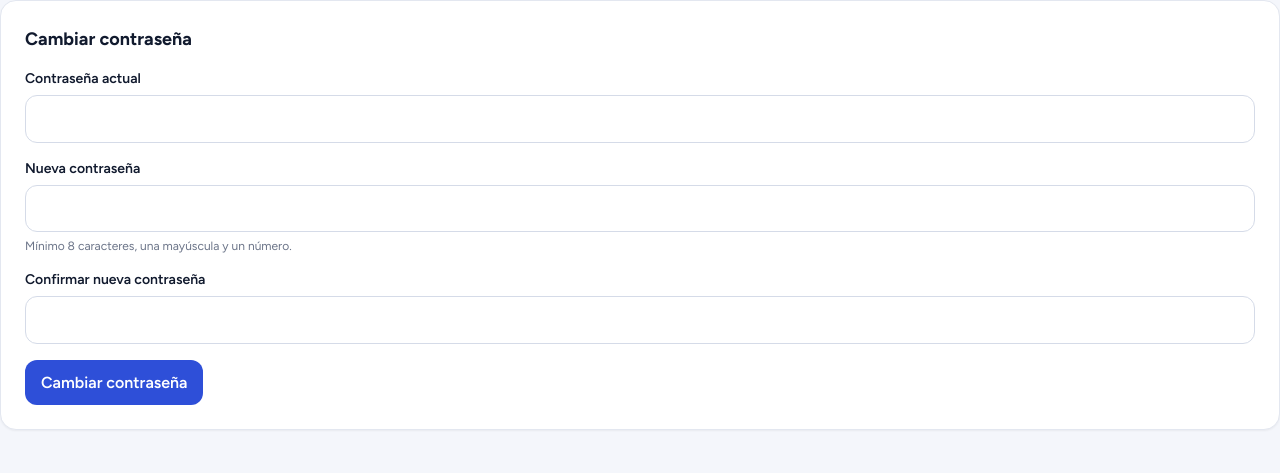
FormCambioPassword › exige la contraseña actual
Type "Nueva4567" into the password field labelled "Nueva contraseña" at (640, 208), box [25, 185, 1255, 232]
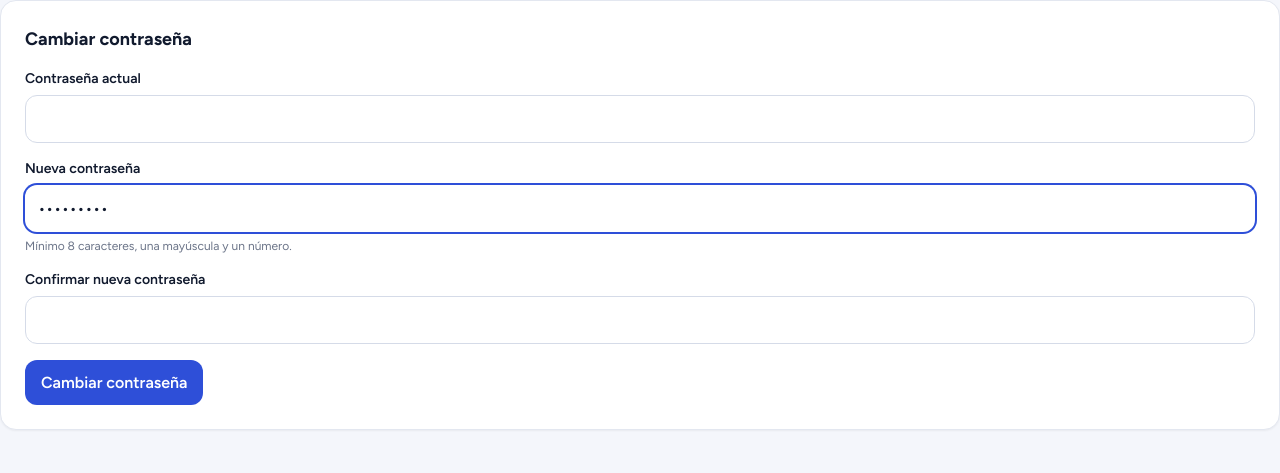
Type "Nueva4567" into the password field labelled "Confirmar nueva contraseña" at (640, 320), box [25, 296, 1255, 344]
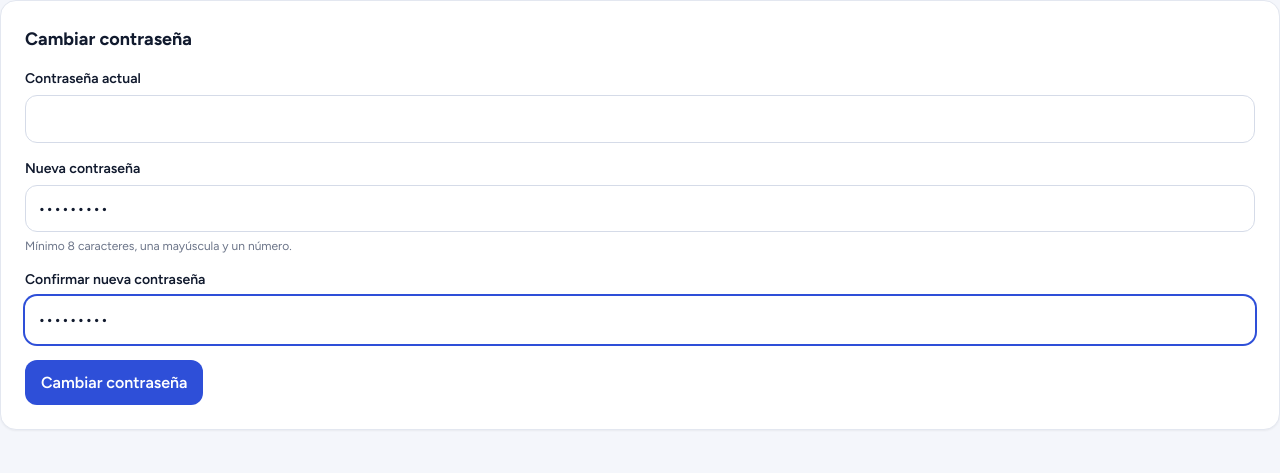
Click the button "Cambiar contraseña" at (114, 383), box [25, 360, 204, 405]
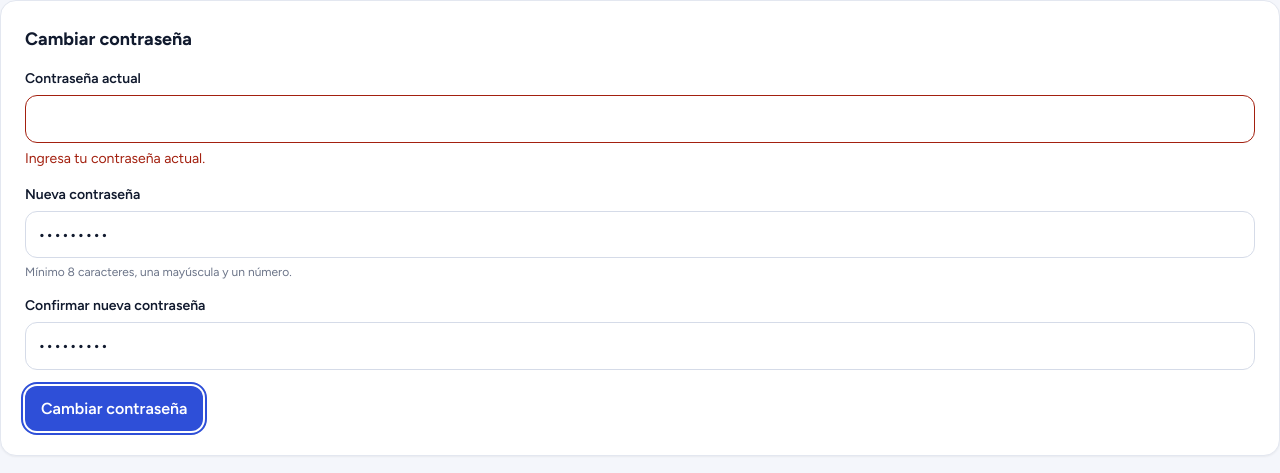
Result: the text "Ingresa tu contraseña actual." is shown at [25, 150, 205, 167]
